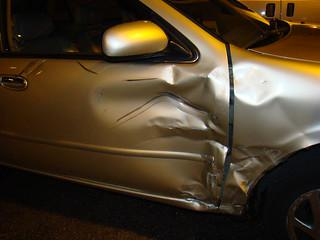doorouter-dent: (43, 59, 231, 216)
fender-dent: (227, 47, 319, 206)
